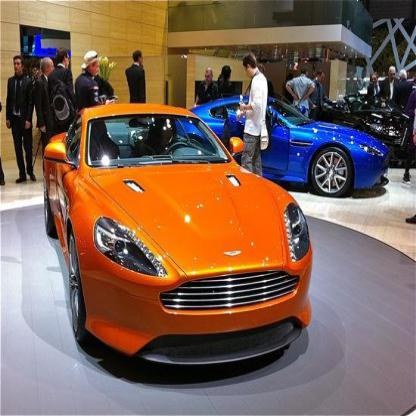Vehicle: (43, 102, 315, 386)
